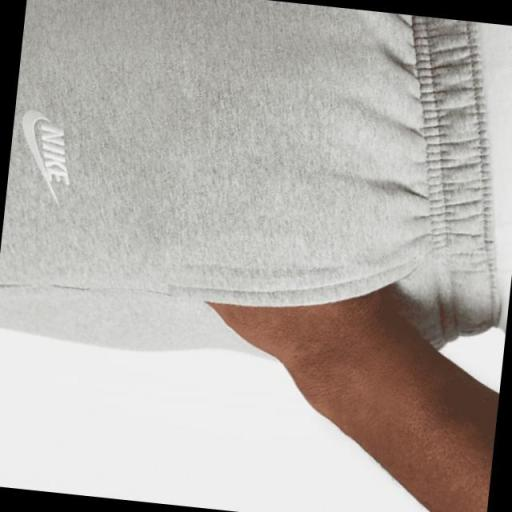Nike: (13, 102, 54, 194), (32, 121, 75, 186)
